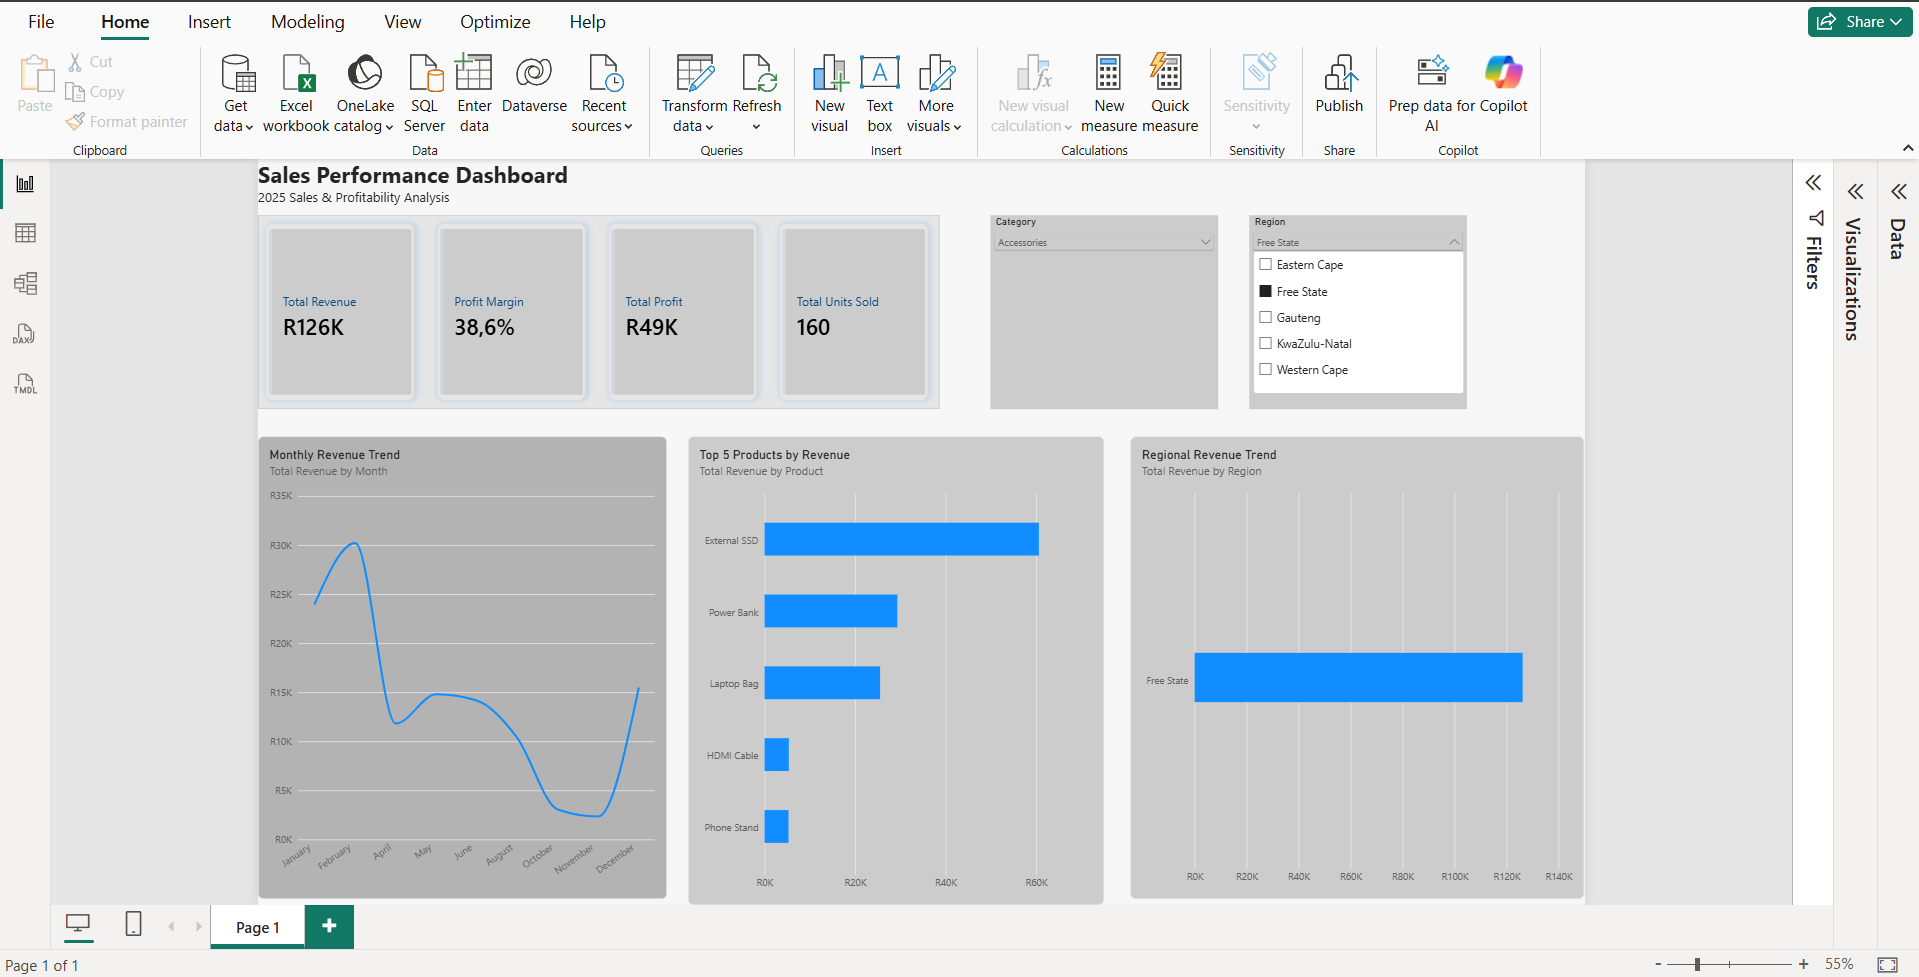

The page's visual inventory and layout, read from the dashboard file:
{"tool":"powerbi","page":{"name":"Page 1","canvas":[1920,1080],"ordinal":0},"visuals":[{"type":"cardVisual","fields":{"Data":["Sales_Data.Total Revenue","Sales_Data.Profit Margin","Sales_Data.Total Profit","Sales_Data.Total Units Sold"]},"box":[0,81.2,988.1,280.5],"z":0},{"type":"lineChart","title":"Monthly Revenue Trend","fields":{"Category":["Sales_Data.Order Date.Variation.Date Hierarchy.Year","Sales_Data.Order Date.Variation.Date Hierarchy.Quarter","Sales_Data.Order Date.Variation.Date Hierarchy.Month","Sales_Data.Order Date.Variation.Date Hierarchy.Day"],"Y":["Sales_Data.Total Revenue"]},"box":[0,401.7,591.8,669.6],"z":1},{"type":"clusteredBarChart","title":"Regional Revenue Trend","fields":{"Category":["Sales_Data.Region"],"Y":["Sales_Data.Total Revenue"]},"box":[1263.1,401.7,656.9,669.6],"z":2},{"type":"clusteredBarChart","title":"Top 5 Products by Revenue","fields":{"Category":["Sales_Data.Product"],"Y":["Sales_Data.Total Revenue"]},"box":[622.5,401.7,602.6,678.6],"z":3},{"type":"slicer","fields":{"Values":["Sales_Data.Region"]},"box":[1435.1,81.4,314.9,280.5],"z":4},{"type":"slicer","fields":{"Values":["Sales_Data.Category"]},"box":[1060.5,81.4,329.4,280.5],"z":5},{"type":"textbox","box":[0,0,470.5,161.1],"z":6}]}

Visuals, with their boxes on the page's 1920x1080 design canvas (x1, y1, x2, y2). These are canvas units, not pixel positions in the 1919x977 screenshot, which may show the page scaled, cropped or inside an application window:
cardVisual - Sales_Data.Total Revenue x Sales_Data.Profit Margin: bbox(0, 81, 988, 362)
"Monthly Revenue Trend" lineChart: bbox(0, 402, 592, 1071)
"Regional Revenue Trend" clusteredBarChart: bbox(1263, 402, 1920, 1071)
"Top 5 Products by Revenue" clusteredBarChart: bbox(622, 402, 1225, 1080)
slicer - Sales_Data.Region: bbox(1435, 81, 1750, 362)
slicer - Sales_Data.Category: bbox(1060, 81, 1390, 362)
textbox: bbox(0, 0, 470, 161)
